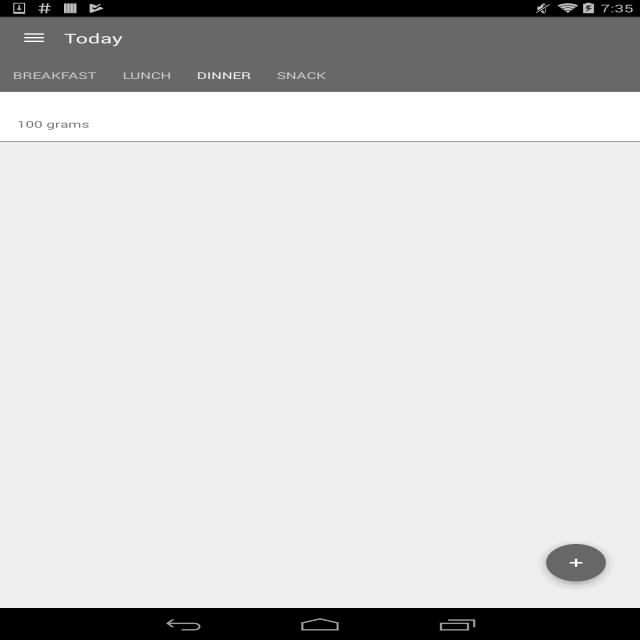ImageButton: (0, 19, 60, 57)
ImageView: (529, 528, 623, 597)
TextView: (17, 102, 623, 115), (17, 118, 623, 130), (13, 69, 96, 82), (64, 29, 123, 47), (197, 69, 251, 82), (122, 69, 171, 82), (277, 69, 326, 82)
